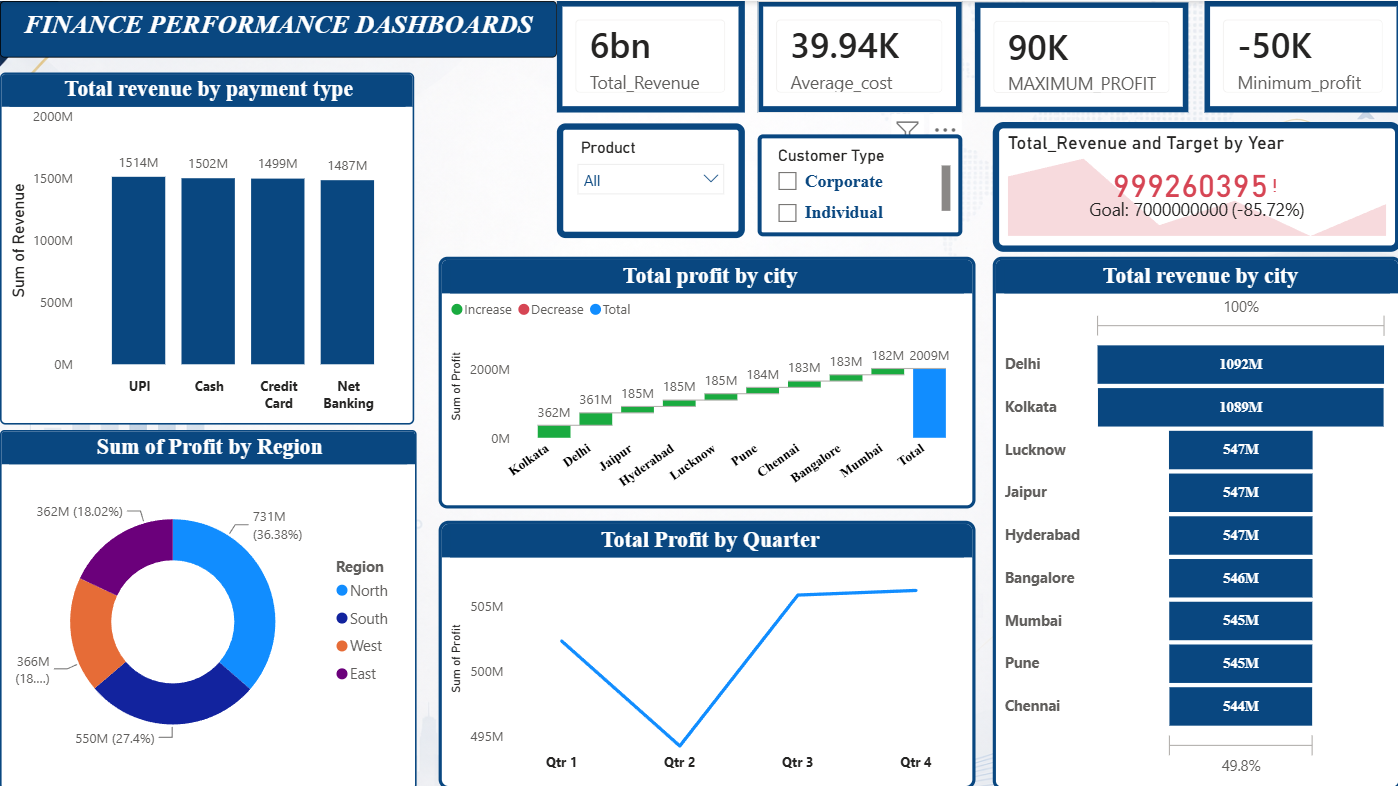

The dashboard page shown, as its layout file describes it:
{"tool":"powerbi","page":{"name":"Page 1","canvas":[1280,720],"ordinal":0},"visuals":[{"type":"textbox","box":[0,0,508.3,51.7],"z":0},{"type":"columnChart","title":"Total revenue by payment type ","fields":{"Y":["Sum(financedata.Revenue)"],"Category":["financedata.Payment Mode"]},"box":[0,65,378.3,321.7],"z":1000},{"type":"donutChart","fields":{"Y":["Sum(financedata.Profit)"],"Category":["financedata.Region"]},"box":[0,391.7,380,328.3],"z":2000},{"type":"lineChart","title":"Total Profit by Quarter","fields":{"Category":["financedata.Date.Variation.Date Hierarchy.Quarter"],"Y":["Sum(financedata.Profit)"]},"box":[400,475,490,245],"z":3000},{"type":"funnel","title":"Total revenue by city","fields":{"Category":["financedata.City"],"Y":["Sum(financedata.Revenue)"]},"box":[906.7,233.3,373.3,486.7],"z":4000},{"type":"waterfallChart","title":"Total profit by city","fields":{"Category":["financedata.City"],"Y":["Sum(financedata.Profit)"]},"box":[400,233.3,490,230],"z":5000},{"type":"cardVisual","fields":{"Data":["financedata.Total_Revenue"]},"box":[508.3,0,171.7,101.7],"z":6000},{"type":"cardVisual","fields":{"Data":["financedata.MAXIMUM_PROFIT"]},"box":[890,1.7,195,100],"z":7000},{"type":"cardVisual","fields":{"Data":["financedata.Total_average"]},"box":[691.7,0,186.7,101.7],"z":8000},{"type":"cardVisual","fields":{"Data":["financedata.Minimum_cost"]},"box":[1100,0,180,101.7],"z":9000},{"type":"kpi","fields":{"Indicator":["financedata.Total_Revenue"],"Goal":["financedata.Measure"],"TrendLine":["financedata.Date.Variation.Date Hierarchy.Year"]},"box":[906.7,110,373.3,118.3],"z":10000},{"type":"slicer","fields":{"Values":["financedata.Product"]},"box":[508.3,111.7,171.7,105],"z":11000},{"type":"slicer","fields":{"Values":["financedata.Customer Type"]},"box":[691.7,121.7,186.7,93.3],"z":12000}]}

Visuals, with their boxes in screenshot pixels (x1, y1, x2, y2), scaled from the page's 1280x720 canvas onto the 1398x786 screenshot:
textbox: rect(0, 0, 555, 56)
"Total revenue by payment type " columnChart: rect(0, 71, 413, 422)
donutChart - Sum(financedata.Profit) x financedata.Region: rect(0, 428, 415, 785)
"Total Profit by Quarter" lineChart: rect(437, 519, 972, 785)
"Total revenue by city" funnel: rect(990, 255, 1397, 785)
"Total profit by city" waterfallChart: rect(437, 255, 972, 506)
cardVisual - financedata.Total_Revenue: rect(555, 0, 743, 111)
cardVisual - financedata.MAXIMUM_PROFIT: rect(972, 2, 1185, 111)
cardVisual - financedata.Total_average: rect(755, 0, 959, 111)
cardVisual - financedata.Minimum_cost: rect(1201, 0, 1397, 111)
kpi - financedata.Total_Revenue x financedata.Measure: rect(990, 120, 1397, 249)
slicer - financedata.Product: rect(555, 122, 743, 237)
slicer - financedata.Customer Type: rect(755, 133, 959, 235)
